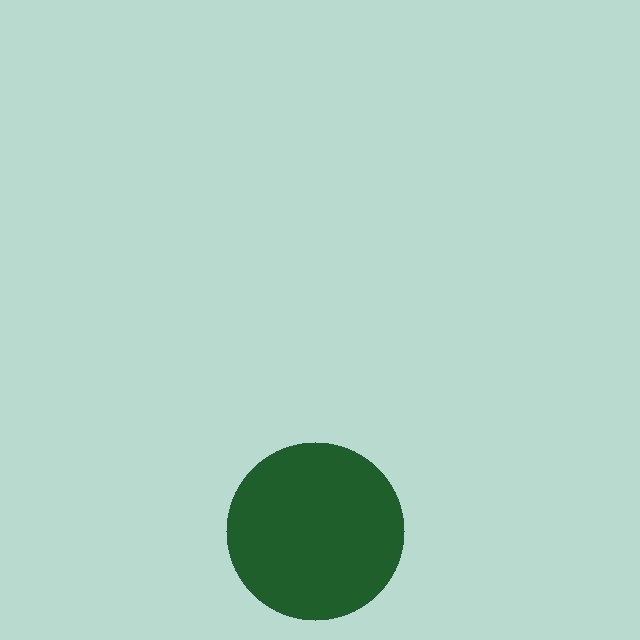circle: (226, 442, 405, 621)
